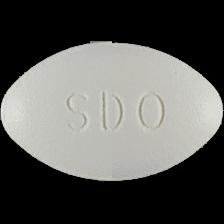13913-004: (0, 0, 224, 224)
